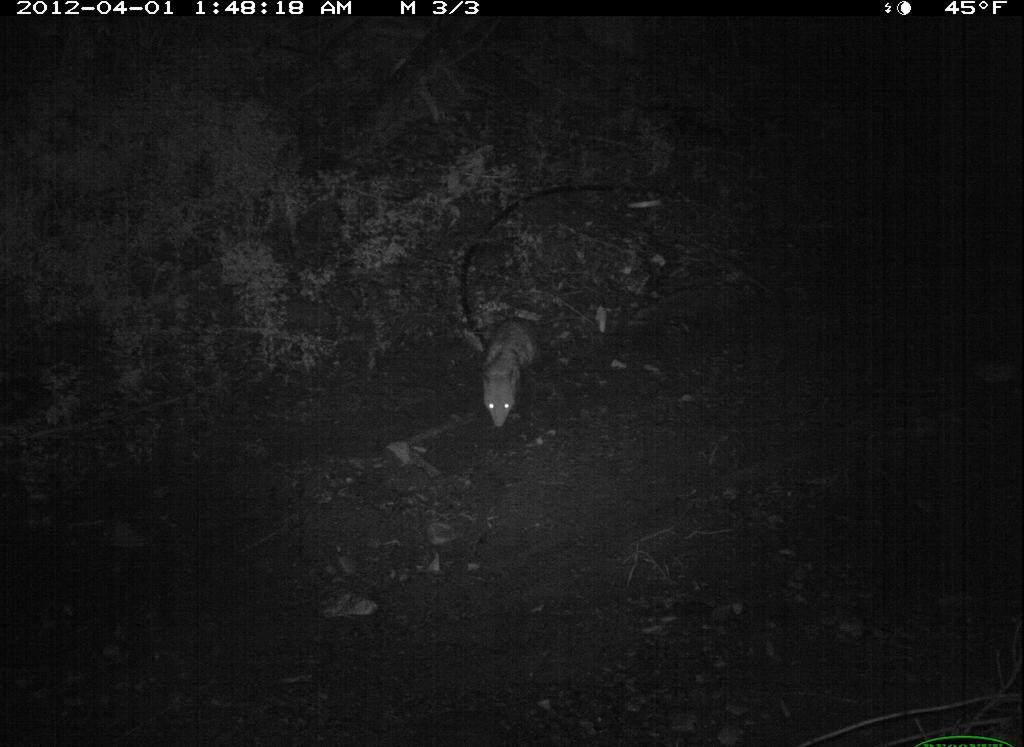opossum: (466, 306, 570, 450)
